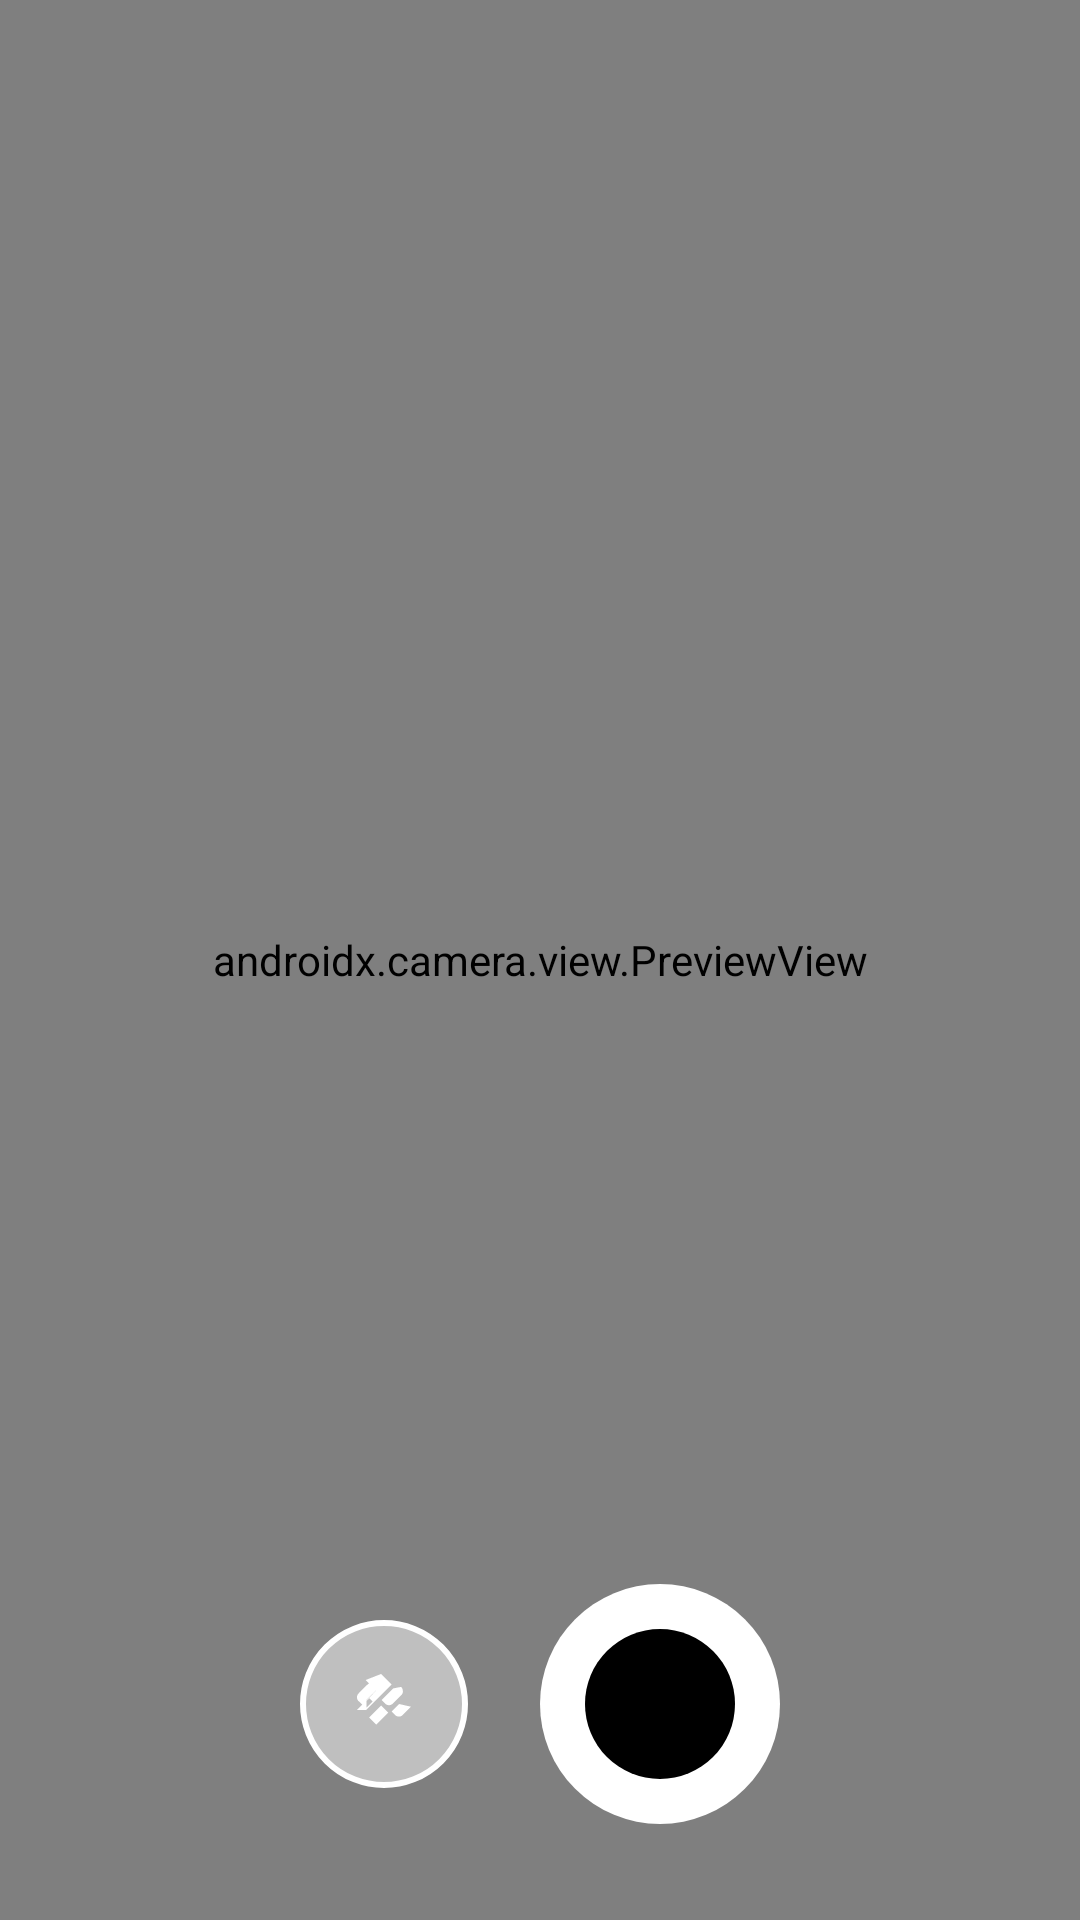

Point at icon controls on the screen. Image size 1080×1920, points as (x=x, y=y).
Toggle flash: (x=384, y=1704)
